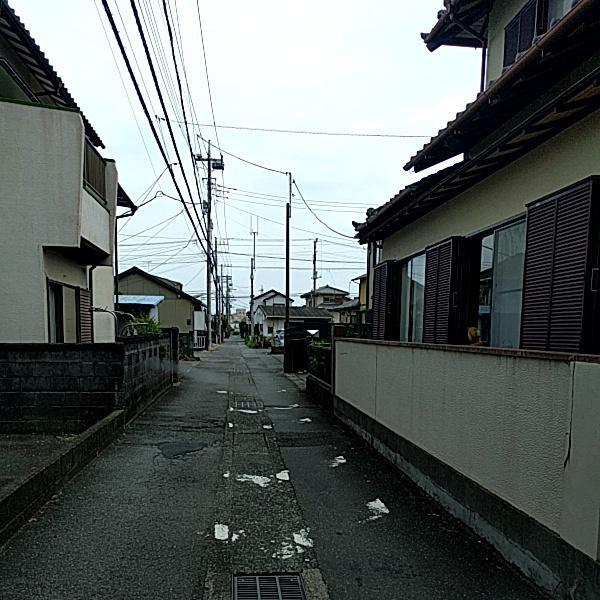D44: (208, 384, 373, 565)
